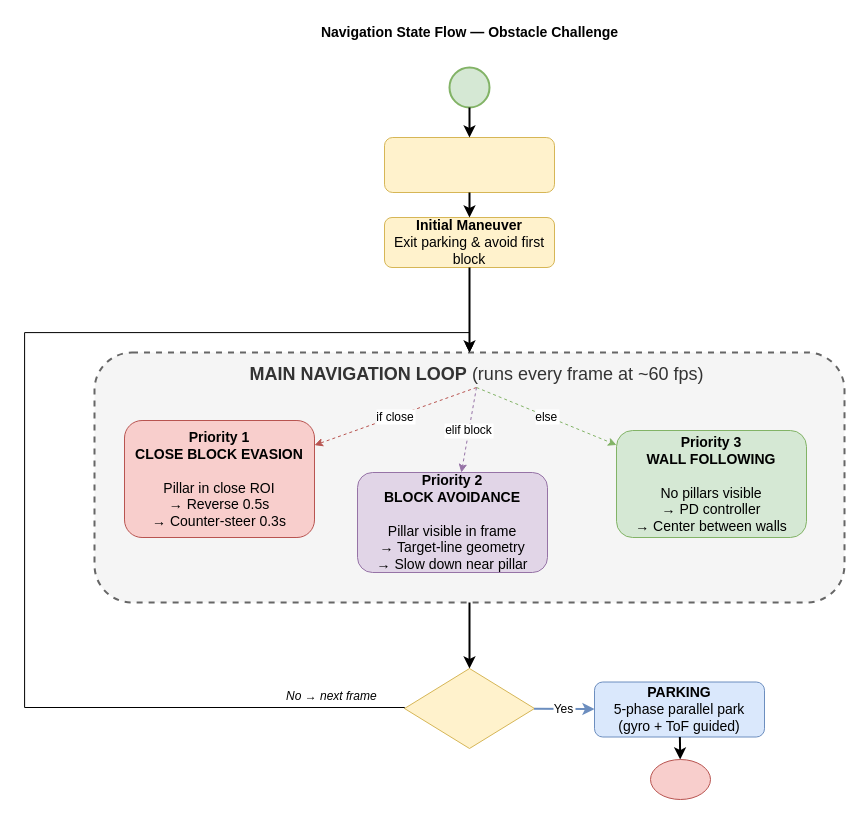
The diagram is 863 pixels wide and 817 high, and some of its shapes have lost their labels. The centre of each missing label's shape, as x and y in pixels:
"12 turns completed?" belongs at point 469,708.
"Direction Detection Compare left vs right wall (10 frames)" belongs at point 469,164.
"STOP" belongs at point 680,779.
